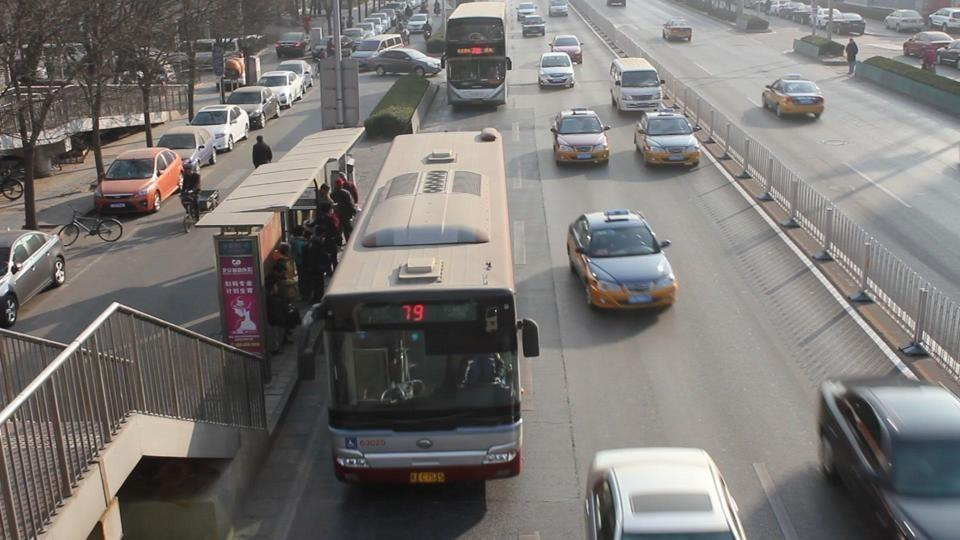car: (816, 374, 959, 538), (584, 446, 748, 539), (566, 208, 678, 311), (0, 226, 71, 325), (91, 147, 184, 215), (633, 110, 702, 168), (0, 137, 61, 200), (550, 109, 611, 164), (608, 58, 663, 113), (189, 105, 251, 151), (155, 126, 218, 171), (762, 76, 826, 120), (368, 46, 445, 77), (224, 85, 280, 127), (902, 29, 957, 64), (257, 70, 304, 106), (537, 52, 577, 91), (551, 33, 584, 65), (884, 9, 924, 32), (934, 39, 960, 71), (661, 18, 693, 43), (927, 8, 960, 30)
